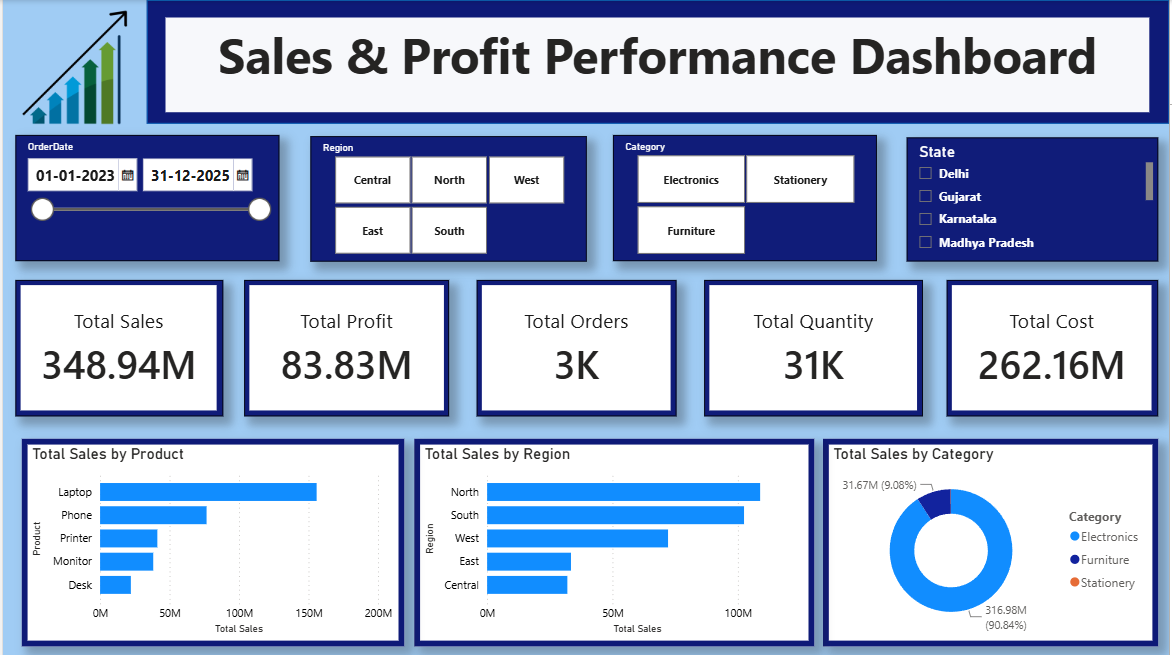

This screenshot's page, from the dashboard's own definition file:
{"tool":"powerbi","page":{"name":"Page 1","canvas":[1280,720],"ordinal":0},"visuals":[{"type":"image","box":[0,0,157.8,148.2],"z":0},{"type":"shape","box":[157.8,0,1122.5,135.8],"z":1000},{"type":"textbox","box":[178.4,19.2,1079.9,104.3],"z":2000},{"type":"slicer","fields":{"Values":["Sales_Data_proj2.OrderDate"]},"box":[13.7,148.2,289.5,138.6],"z":3000},{"type":"slicer","fields":{"Values":["Sales_Data_proj2.Region"]},"box":[337.6,149.6,303.3,137.2],"z":4000},{"type":"slicer","fields":{"Values":["Sales_Data_proj2.State"]},"box":[992.1,150.9,275.8,135.8],"z":5000},{"type":"slicer","fields":{"Values":["Sales_Data_proj2.Category"]},"box":[669.6,148.2,289.5,138.6],"z":6000},{"type":"cardVisual","fields":{"Data":["Calculation.Total Sales"]},"box":[13.7,307.4,227.8,149.6],"z":7000},{"type":"cardVisual","fields":{"Data":["Calculation.Total Quantity"]},"box":[769.8,307.4,240.1,149.6],"z":8000},{"type":"cardVisual","fields":{"Data":["Calculation.Total Cost"]},"box":[1036,307.4,231.9,149.6],"z":9000},{"type":"cardVisual","fields":{"Data":["Calculation.Total Orders"]},"box":[520.1,307.4,219.6,149.6],"z":10000},{"type":"cardVisual","fields":{"Data":["Calculation.Total Profit"]},"box":[264.8,307.4,225,149.6],"z":11000},{"type":"donutChart","fields":{"Category":["Sales_Data_proj2.Category"],"Y":["Calculation.Total Sales"]},"box":[900.2,481.6,367.8,227.8],"z":12000},{"type":"clusteredBarChart","fields":{"Category":["Sales_Data_proj2.Region"],"Y":["Calculation.Total Sales"]},"box":[451.5,481.6,439.1,227.8],"z":13000},{"type":"clusteredBarChart","fields":{"Category":["Sales_Data_proj2.Product"],"Y":["Calculation.Total Sales"]},"box":[20.6,481.6,419.9,227.8],"z":14000}]}

Visuals, with their boxes in screenshot pixels (x1, y1, x2, y2), scaled from the page's 1280x720 canvas onto the 1172x655 screenshot:
image: 0 0 144 135
shape: 144 0 1171 124
textbox: 163 17 1152 112
slicer - Sales_Data_proj2.OrderDate: 13 135 278 261
slicer - Sales_Data_proj2.Region: 309 136 587 261
slicer - Sales_Data_proj2.State: 908 137 1161 261
slicer - Sales_Data_proj2.Category: 613 135 878 261
cardVisual - Calculation.Total Sales: 13 280 221 416
cardVisual - Calculation.Total Quantity: 705 280 925 416
cardVisual - Calculation.Total Cost: 949 280 1161 416
cardVisual - Calculation.Total Orders: 476 280 677 416
cardVisual - Calculation.Total Profit: 242 280 448 416
donutChart - Sales_Data_proj2.Category x Calculation.Total Sales: 824 438 1161 645
clusteredBarChart - Sales_Data_proj2.Region x Calculation.Total Sales: 413 438 815 645
clusteredBarChart - Sales_Data_proj2.Product x Calculation.Total Sales: 19 438 403 645
